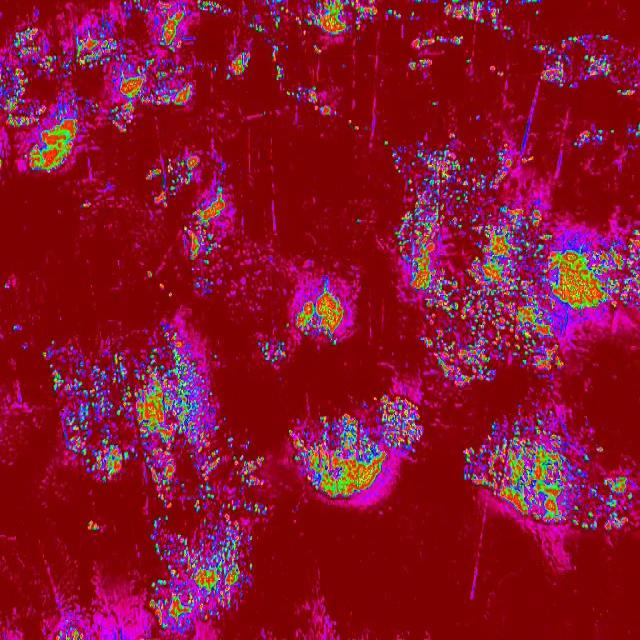fire: (392, 132, 554, 388), (44, 318, 224, 492), (461, 402, 634, 540), (143, 494, 272, 637), (287, 392, 424, 499), (554, 226, 640, 314), (0, 22, 71, 118), (138, 2, 196, 108), (185, 183, 234, 286), (532, 31, 614, 89), (294, 278, 345, 348), (26, 121, 82, 178), (305, 0, 381, 39), (71, 17, 128, 65), (106, 64, 140, 138), (227, 434, 268, 491), (445, 0, 512, 32), (286, 81, 338, 122), (150, 157, 197, 202), (264, 0, 305, 30), (572, 125, 616, 149), (225, 46, 252, 80), (258, 337, 290, 364), (268, 40, 286, 84), (412, 34, 468, 48), (193, 0, 232, 18), (54, 619, 85, 640), (406, 56, 434, 72), (617, 79, 638, 97), (554, 342, 566, 372), (347, 117, 365, 134), (629, 118, 640, 140), (250, 15, 262, 35), (386, 6, 400, 22), (70, 95, 79, 119), (86, 520, 102, 532), (119, 0, 137, 8), (80, 200, 94, 210), (408, 8, 416, 24), (144, 268, 153, 282), (518, 0, 542, 5), (90, 102, 100, 113), (494, 66, 505, 76), (166, 290, 176, 300), (11, 322, 20, 333), (354, 215, 363, 226), (20, 340, 27, 354), (209, 64, 217, 75), (474, 114, 484, 122), (158, 282, 166, 292), (3, 282, 11, 292), (429, 100, 438, 108), (413, 0, 426, 5), (464, 57, 472, 65), (383, 138, 389, 148), (534, 8, 540, 18), (262, 108, 268, 117), (285, 321, 291, 328)
